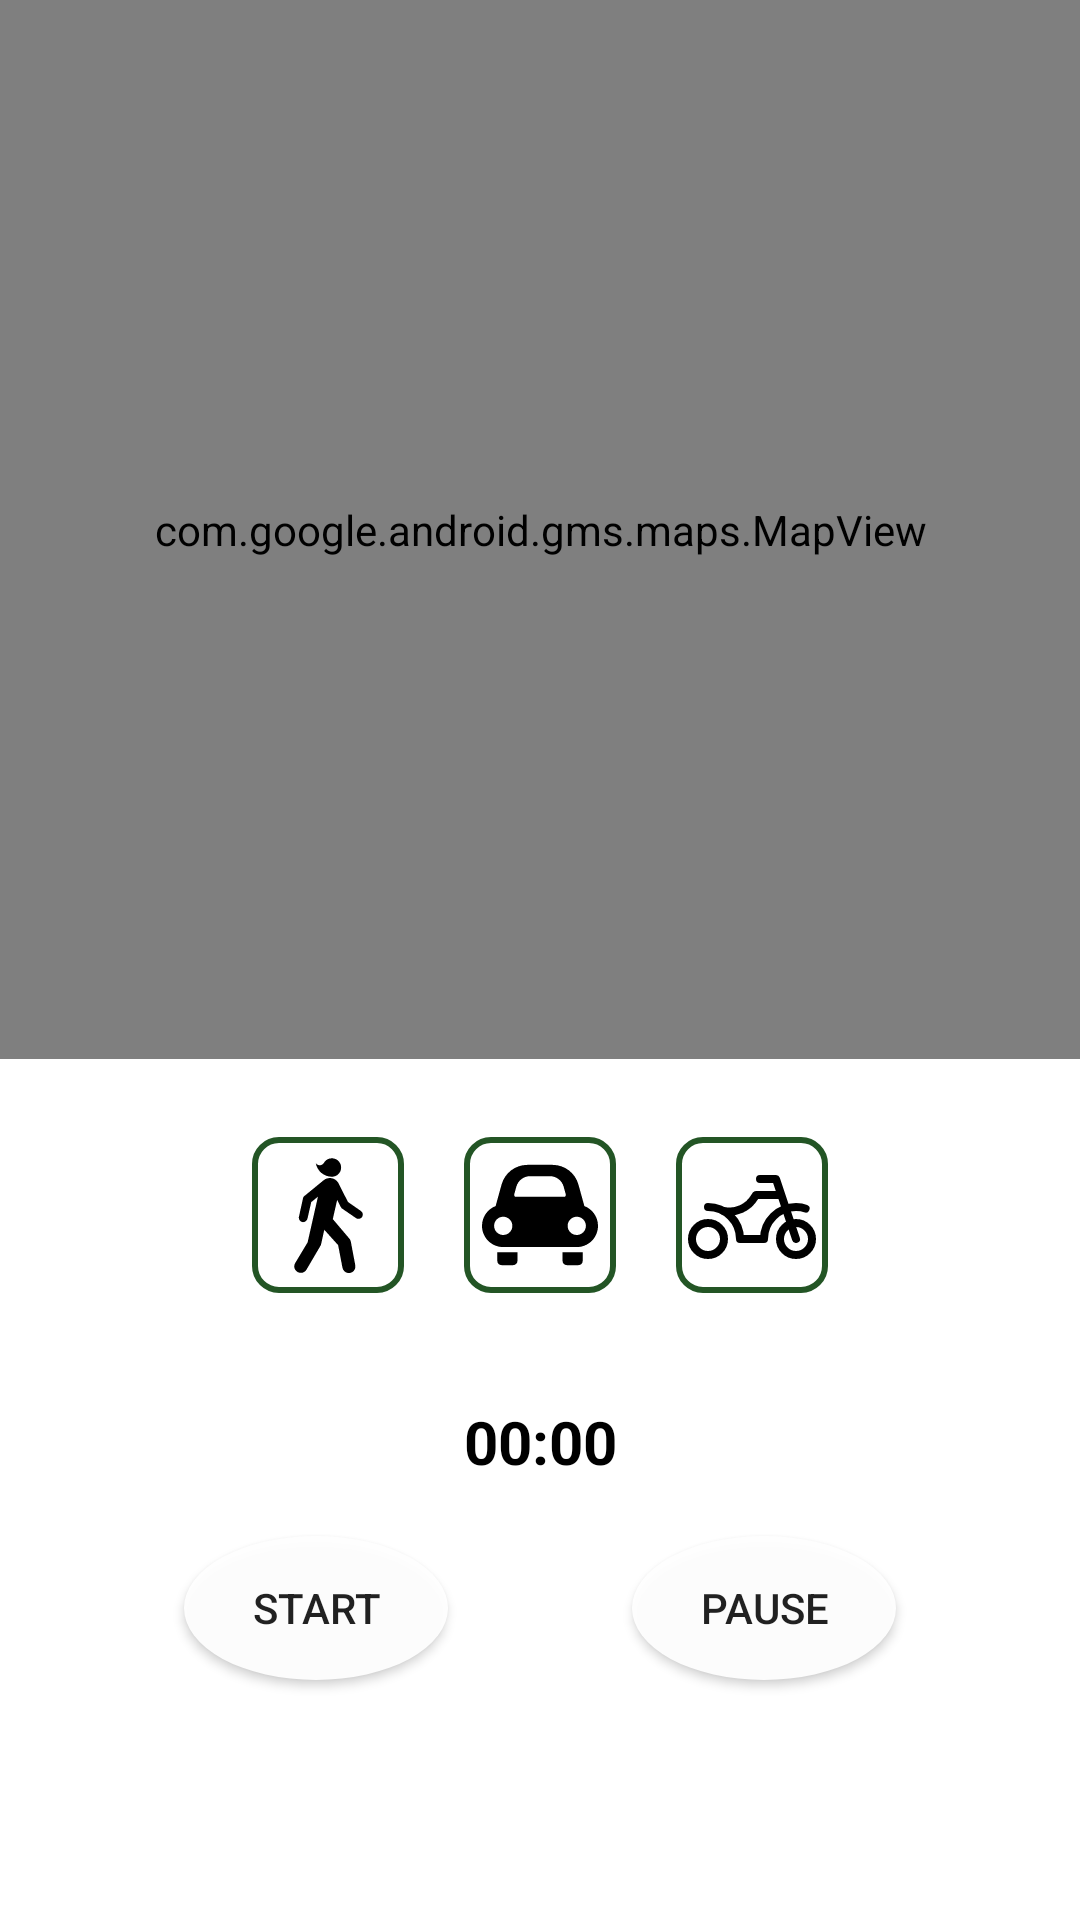

Named icons in this screenshot (1080w x 1920h) and their bounding boxes, (left=x1, top=y1, right=x2, bottom=y2):
car: (left=464, top=1137, right=616, bottom=1293)
foot: (left=252, top=1137, right=404, bottom=1293)
moto: (left=676, top=1137, right=828, bottom=1293)
